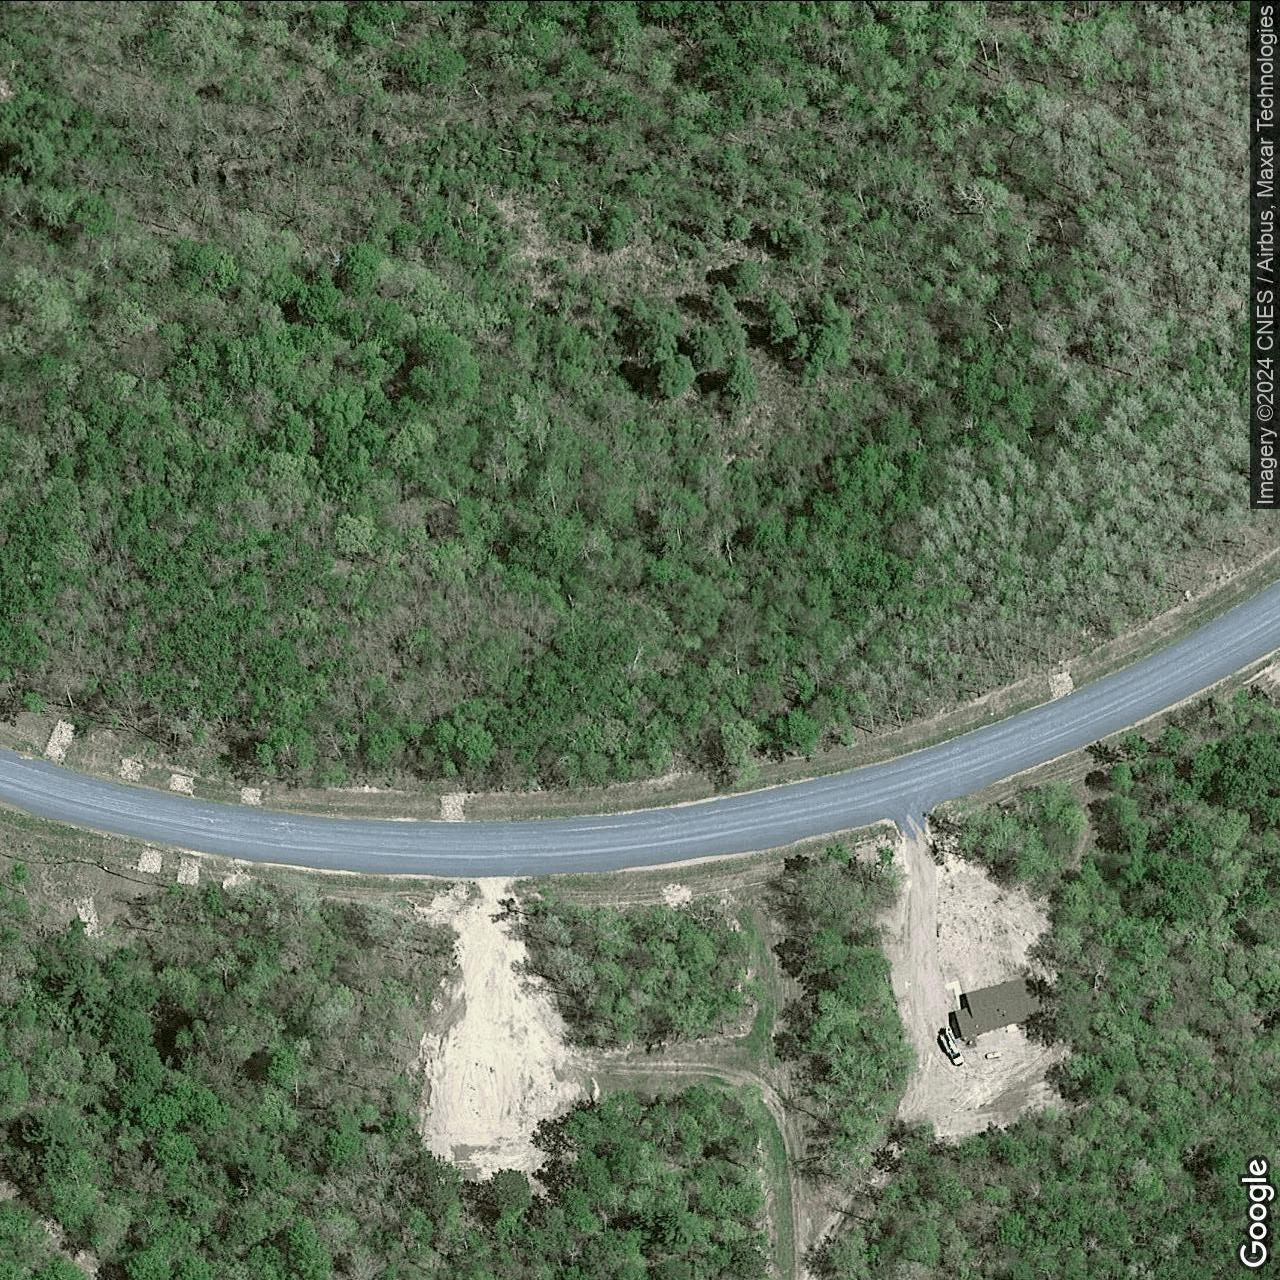House: (953, 974, 1046, 1039)
Propane: (983, 1049, 1002, 1061)
